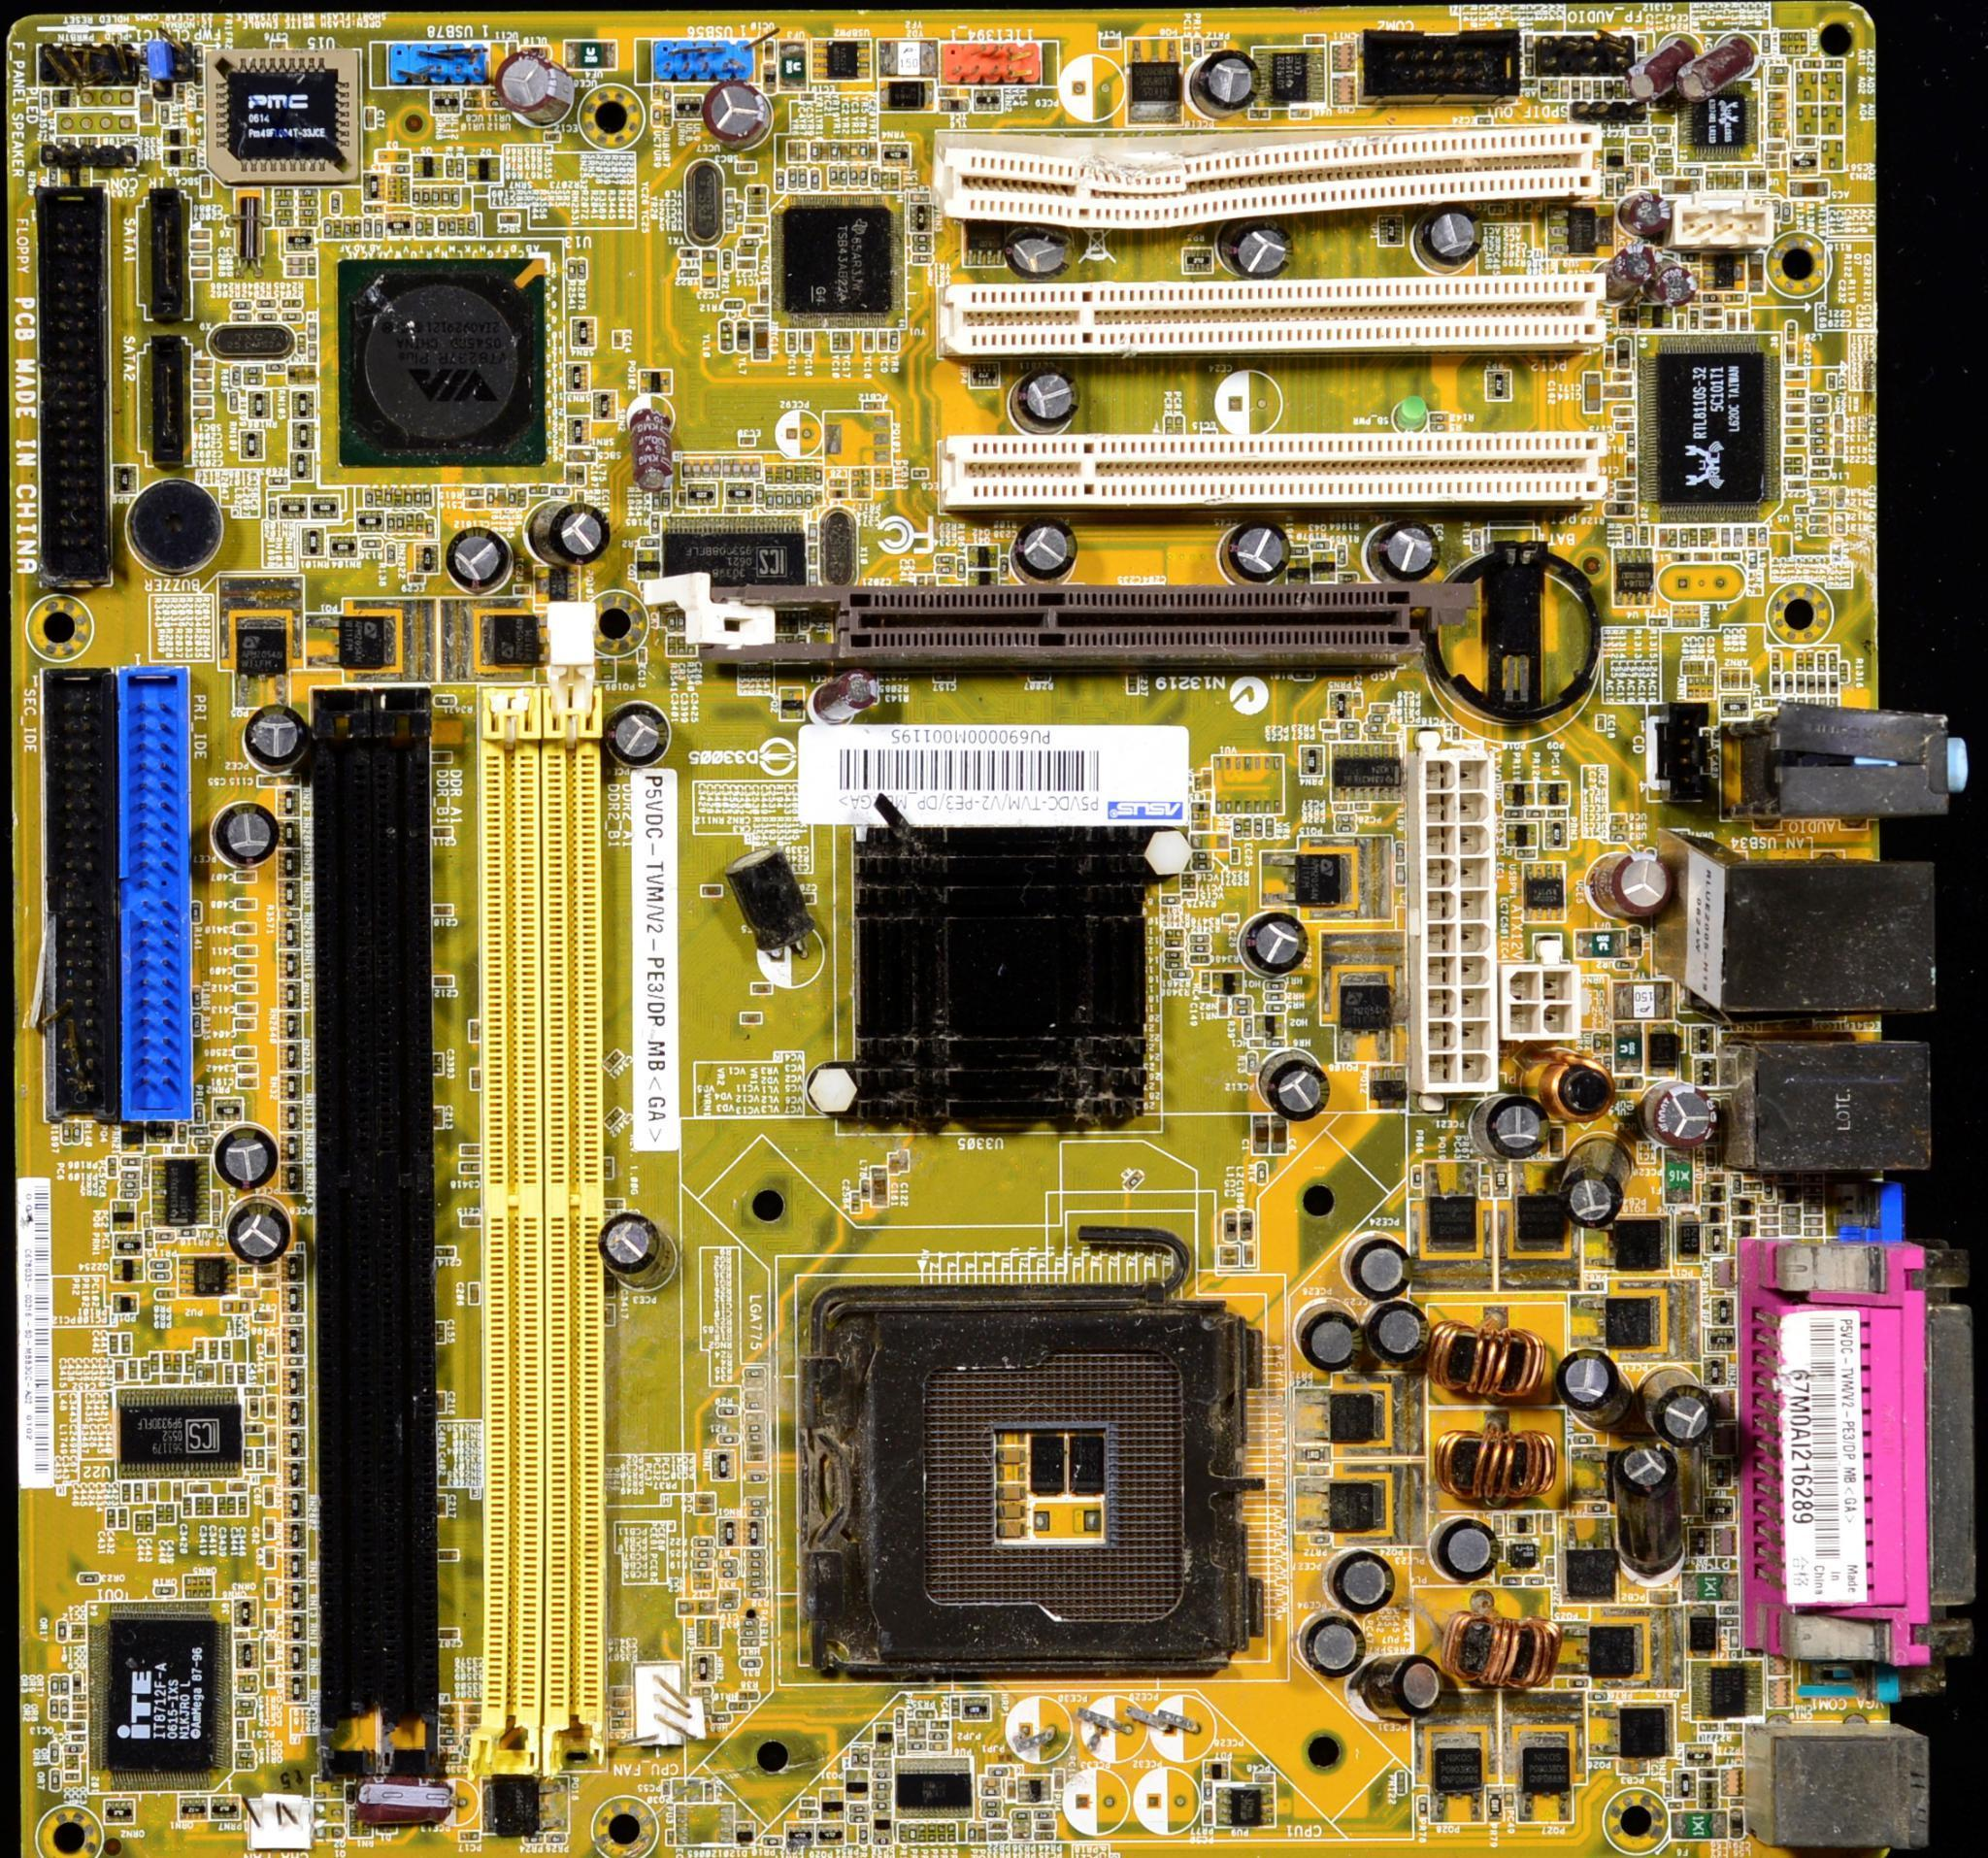Capacitor Jumper: (728, 849, 815, 960), (1620, 1435, 1686, 1575), (1594, 847, 1683, 924), (1550, 1341, 1623, 1425), (1560, 1139, 1632, 1224), (623, 410, 689, 501), (599, 1208, 675, 1283), (225, 1193, 298, 1271), (1264, 1055, 1335, 1132), (447, 519, 517, 597), (1683, 45, 1765, 112), (356, 1778, 454, 1832), (499, 56, 574, 126), (604, 702, 679, 770), (1478, 1091, 1552, 1160), (1021, 367, 1087, 442), (541, 499, 607, 571), (1000, 220, 1077, 281), (215, 1121, 284, 1187), (1424, 204, 1491, 274), (1014, 519, 1084, 585), (1241, 910, 1309, 976), (1227, 224, 1295, 290), (248, 704, 312, 774), (1651, 1083, 1721, 1146), (1646, 1380, 1710, 1446), (1196, 51, 1262, 114), (1381, 513, 1440, 583), (215, 802, 278, 864), (1644, 35, 1691, 117), (703, 84, 768, 143), (1231, 513, 1285, 583), (1627, 192, 1674, 237), (1653, 264, 1693, 307), (1616, 246, 1655, 290), (1250, 1112, 1272, 1156), (1269, 1111, 1290, 1154), (871, 1165, 892, 1208), (1585, 372, 1602, 412), (232, 1015, 260, 1036), (604, 1104, 625, 1130), (264, 1449, 279, 1479), (251, 1310, 278, 1327), (106, 1331, 124, 1357), (133, 1509, 147, 1540), (237, 1283, 262, 1301), (264, 1395, 281, 1420), (232, 873, 262, 887), (264, 1331, 278, 1360), (154, 1502, 168, 1531), (105, 1505, 119, 1535), (234, 943, 260, 959), (236, 1002, 262, 1018), (431, 1051, 447, 1077), (606, 1048, 623, 1070), (234, 962, 262, 976), (223, 1360, 237, 1387), (265, 1636, 279, 1662), (183, 1491, 195, 1521), (236, 980, 258, 995), (236, 1060, 258, 1076), (257, 1275, 279, 1290), (262, 1483, 278, 1505), (436, 1495, 452, 1517), (264, 1668, 279, 1690), (190, 239, 213, 255), (232, 922, 257, 936), (232, 1046, 260, 1058), (470, 1067, 482, 1095), (1217, 1252, 1241, 1266), (162, 1348, 175, 1376), (182, 1352, 195, 1376), (264, 1608, 278, 1633), (1786, 414, 1810, 428), (265, 1360, 278, 1387), (194, 1491, 206, 1517), (119, 1507, 131, 1533), (436, 1549, 463, 1561), (433, 901, 456, 915), (208, 1339, 222, 1362), (265, 1547, 279, 1570), (262, 1579, 276, 1601), (189, 267, 211, 281), (1726, 309, 1740, 332), (1786, 367, 1808, 381), (234, 1362, 250, 1381), (1217, 1243, 1241, 1256), (218, 1493, 230, 1517), (229, 1493, 241, 1517), (262, 1517, 274, 1542), (438, 1626, 463, 1638), (1702, 318, 1726, 330), (1613, 478, 1637, 491), (435, 974, 456, 988), (237, 1074, 258, 1088), (602, 1156, 616, 1177), (461, 1212, 482, 1226), (435, 1245, 456, 1259), (166, 1500, 176, 1528), (192, 253, 213, 267), (1658, 527, 1672, 548), (1583, 77, 1595, 100), (888, 1153, 901, 1175), (470, 1280, 482, 1303), (1602, 346, 1614, 368), (566, 464, 578, 487), (147, 1509, 155, 1538), (470, 1020, 482, 1041), (435, 1105, 445, 1130), (461, 1144, 482, 1156), (461, 1160, 482, 1172), (1768, 112, 1789, 124), (436, 1320, 447, 1345), (150, 1352, 162, 1373), (141, 1359, 154, 1380), (264, 1427, 274, 1451), (695, 1491, 716, 1504), (695, 1504, 719, 1514), (1740, 309, 1751, 334), (1625, 456, 1637, 477), (1695, 550, 1716, 562), (438, 1701, 456, 1715), (124, 1331, 134, 1353), (194, 1338, 204, 1360), (176, 1352, 187, 1374), (115, 1360, 126, 1383), (438, 1390, 449, 1413), (204, 1495, 215, 1517), (1704, 307, 1726, 318), (1611, 370, 1634, 381), (1786, 403, 1808, 414), (1614, 491, 1637, 501), (1217, 997, 1229, 1016), (195, 1364, 208, 1383), (1614, 419, 1634, 431), (124, 1481, 133, 1507), (190, 229, 211, 239), (1786, 344, 1796, 365), (433, 828, 454, 838), (236, 899, 260, 908), (850, 1191, 862, 1208), (1560, 80, 1571, 100), (222, 1336, 230, 1359), (799, 140, 808, 162), (1717, 168, 1726, 190), (1007, 1779, 1016, 1802), (1768, 101, 1786, 112), (131, 1359, 140, 1380), (136, 1483, 145, 1504), (1726, 168, 1735, 189), (241, 1495, 248, 1519), (850, 141, 859, 161)
Connector: (1761, 1242, 1988, 1655), (1704, 861, 1943, 1011), (1761, 1036, 1964, 1189), (1758, 716, 1974, 840), (1775, 1729, 1964, 1856)
IC: (843, 819, 1162, 1142), (326, 244, 559, 487), (84, 1601, 232, 1792), (1644, 337, 1777, 522), (208, 47, 363, 183), (771, 185, 897, 323), (113, 1385, 248, 1486), (658, 512, 812, 594), (115, 1387, 241, 1477), (1681, 84, 1761, 162), (899, 1758, 976, 1816), (148, 1156, 211, 1226), (1330, 746, 1405, 803), (1258, 49, 1328, 108), (1543, 213, 1618, 253), (1613, 545, 1658, 609), (812, 38, 876, 84), (1222, 1785, 1274, 1828)
Resistor Jumper: (59, 1118, 75, 1151), (806, 169, 822, 196), (1124, 1172, 1145, 1191), (243, 363, 267, 379), (782, 168, 799, 189), (827, 166, 841, 192), (255, 297, 281, 311), (274, 196, 297, 211), (267, 360, 290, 375), (229, 299, 253, 313), (1782, 669, 1796, 693), (1770, 671, 1784, 695), (719, 1430, 740, 1446), (838, 166, 853, 187), (464, 218, 480, 239), (298, 197, 321, 211), (566, 257, 579, 279), (281, 309, 304, 323), (73, 1119, 84, 1149), (445, 154, 457, 178), (894, 1704, 906, 1729), (773, 168, 785, 192), (412, 185, 424, 210), (297, 208, 321, 220), (342, 215, 354, 239), (255, 309, 279, 321), (232, 363, 244, 388), (1796, 671, 1808, 695), (1817, 674, 1829, 698), (719, 1404, 740, 1418), (857, 166, 871, 187), (869, 169, 883, 190), (272, 187, 293, 201), (276, 217, 297, 231), (353, 217, 367, 237), (747, 1470, 770, 1483), (693, 1535, 716, 1547), (847, 166, 859, 189), (798, 166, 810, 189), (422, 187, 435, 210), (330, 194, 342, 217), (438, 217, 450, 239), (1759, 31, 1772, 54), (1677, 527, 1690, 550), (386, 543, 398, 566), (1672, 552, 1695, 564), (740, 1657, 766, 1668), (229, 314, 255, 325), (747, 1556, 766, 1570), (990, 1764, 1009, 1778), (412, 487, 426, 506), (365, 538, 384, 552), (745, 1399, 766, 1411), (747, 1432, 768, 1444), (810, 141, 822, 162), (717, 1556, 738, 1568), (457, 155, 468, 180), (860, 1823, 871, 1848), (431, 187, 443, 208), (442, 189, 454, 210), (374, 218, 386, 239), (740, 236, 761, 248), (281, 299, 305, 309), (1429, 410, 1450, 423), (387, 513, 400, 534), (1766, 66, 1791, 77), (909, 1738, 927, 1751), (246, 372, 264, 386), (831, 138, 841, 161), (452, 187, 463, 210), (298, 218, 321, 229), (457, 215, 468, 237), (449, 215, 459, 237), (365, 218, 375, 241), (1429, 423, 1452, 433), (426, 517, 436, 540), (1627, 524, 1637, 547), (1829, 674, 1840, 697), (1655, 126, 1674, 138), (693, 1556, 712, 1568), (1683, 168, 1702, 180), (874, 1800, 894, 1813), (852, 1811, 871, 1823), (1812, 435, 1831, 447), (859, 141, 869, 162), (747, 1547, 768, 1558), (1503, 1573, 1524, 1584), (873, 1790, 894, 1800), (983, 1797, 1004, 1807), (967, 1821, 977, 1842), (384, 487, 394, 508), (367, 487, 377, 508), (805, 489, 815, 510), (1806, 672, 1817, 693), (757, 480, 766, 505), (794, 487, 803, 512), (747, 1507, 766, 1517), (695, 1547, 714, 1558), (719, 1568, 738, 1579), (1012, 1809, 1032, 1820), (1035, 1809, 1054, 1820), (1616, 176, 1627, 196), (813, 464, 824, 484), (396, 513, 407, 533), (744, 1421, 766, 1430), (719, 1601, 742, 1610), (740, 1619, 763, 1627), (929, 1731, 951, 1739), (871, 1769, 894, 1778), (579, 257, 588, 279), (777, 487, 785, 510), (1813, 424, 1829, 437), (740, 1627, 761, 1636), (738, 1690, 759, 1699), (984, 1785, 1002, 1795), (850, 1802, 867, 1813), (983, 1807, 1004, 1816), (297, 190, 318, 199), (274, 211, 295, 220), (1812, 395, 1829, 405), (1813, 445, 1831, 456), (785, 463, 794, 484), (424, 489, 435, 506), (405, 489, 414, 510), (785, 489, 794, 510), (747, 1498, 766, 1507), (747, 1570, 766, 1579), (768, 491, 777, 510), (747, 1577, 764, 1586), (873, 1779, 890, 1788), (1525, 1577, 1546, 1584), (749, 1591, 768, 1598), (1810, 417, 1829, 424), (747, 1369, 764, 1376), (911, 1825, 918, 1842)
Transistor: (288, 611, 400, 676), (1302, 1380, 1398, 1455), (1257, 831, 1360, 901), (1302, 1479, 1405, 1547), (463, 608, 560, 679), (483, 1767, 571, 1842), (1410, 1156, 1480, 1247), (1512, 1725, 1574, 1825), (1583, 1697, 1681, 1755), (1337, 978, 1403, 1060), (1583, 1292, 1683, 1346), (236, 611, 291, 705), (1431, 1729, 1485, 1825), (1517, 1158, 1569, 1240), (1555, 1544, 1621, 1596), (1602, 1219, 1669, 1266), (1576, 1624, 1639, 1673)
